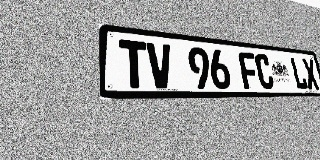6: (208, 48, 232, 89)
9: (187, 46, 213, 89)
C: (254, 53, 275, 89)
F: (238, 52, 260, 89)
L: (289, 57, 308, 89)
T: (119, 39, 149, 88)
V: (146, 42, 174, 89)
X: (302, 58, 320, 90)
